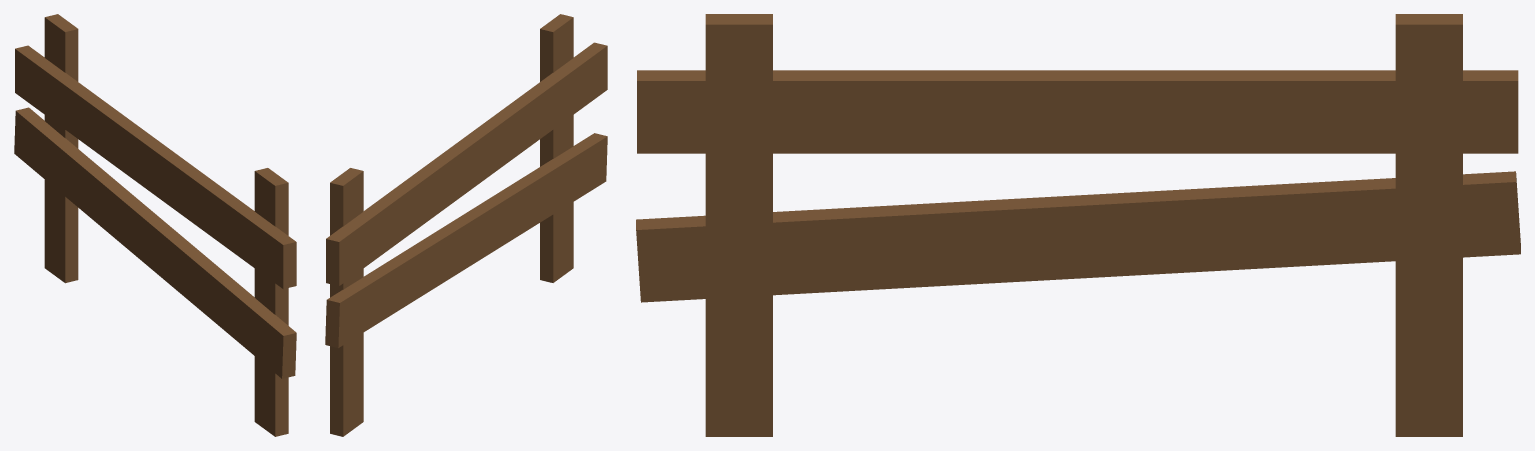
Rendered from fence.glb.
3 renders of one model, left to right at view 1: azimuth 30°, elevation 25°; view 2: azimuth 150°, elevation 25°; view 3: azimuth 270°, elevation 25°, orthographic. The views are drawn at different scales.
Visible parts, largest first — view 1: Fence1; view 2: Fence1; view 3: Fence1.
Boxes of the visible parts, x1,y1,x2,y2 form: Fence1: (14, 14, 296, 436); Fence1: (325, 14, 607, 436); Fence1: (636, 14, 1520, 436).
Bounding box in the file's own units: 0.1249 × 1.14 × 2.23.
